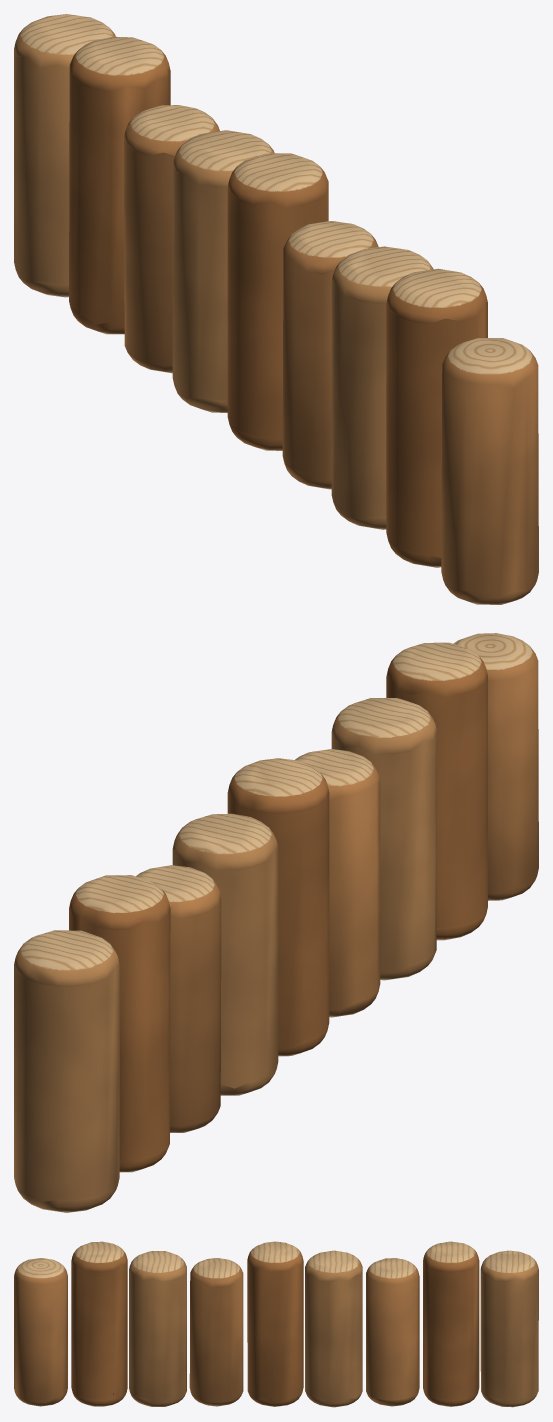
File: fence_log_y.glb
3 renders of one model, top to bottom at view 1: azimuth 30°, elevation 25°; view 2: azimuth 150°, elevation 25°; view 3: azimuth 270°, elevation 25°, orthographic. The views are drawn at different scales.
Visible parts, largest first — view 1: flog; view 2: flog; view 3: flog.
Boxes of the visible parts, left/top/right/bottom form: flog: left=14, top=14, right=538, bottom=604; flog: left=14, top=633, right=538, bottom=1212; flog: left=14, top=1241, right=538, bottom=1407.
Bounding box in the file's own units: 0.3277 × 0.9404 × 2.99.
Materials: 1 (1 with a texture image).
